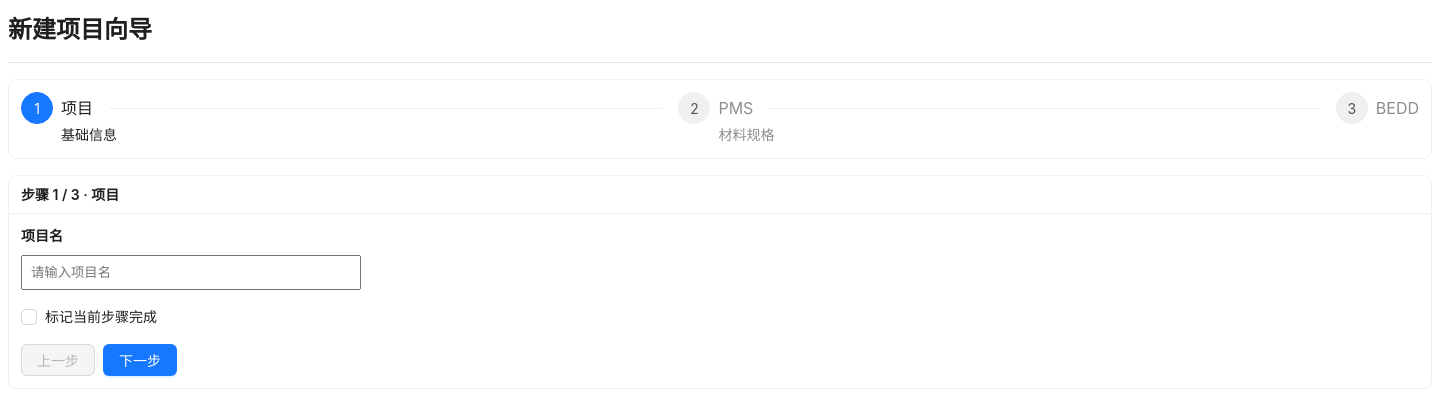
Test: ProjectWizardPage › navigates forward with next button
The width and height of the screenshot is (1440, 406).
Expected: the text "步骤 1 / 3 · 项目" is shown, [21,186,119,202]
Click the button with test id "wizard-next": (140, 360) [103,344,177,376]
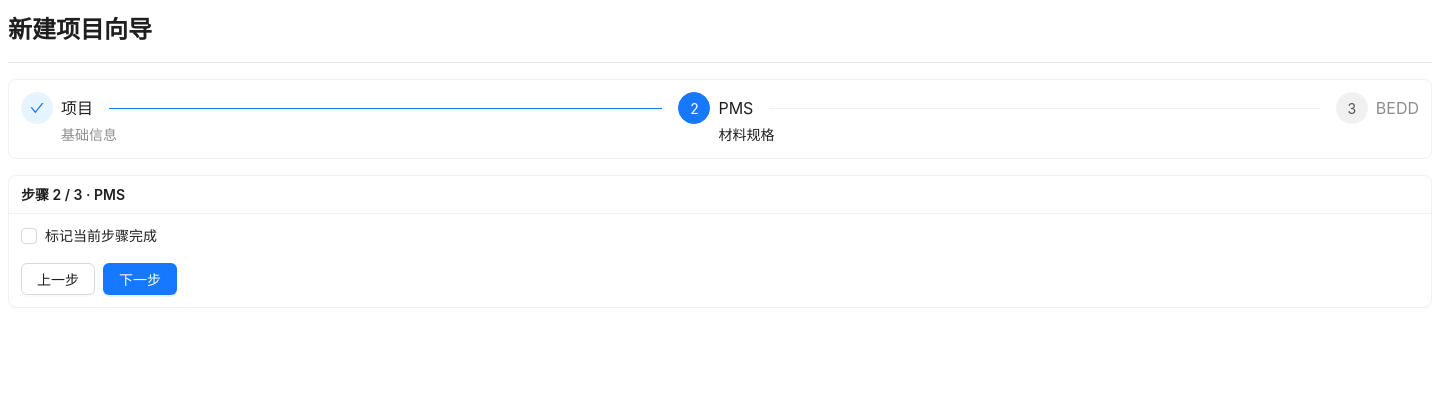
Expected: the text "步骤 2 / 3 · PMS" is shown, [21,186,125,202]
